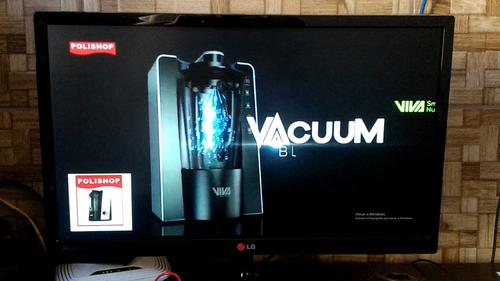Polishop #1: (68, 172, 133, 230)
